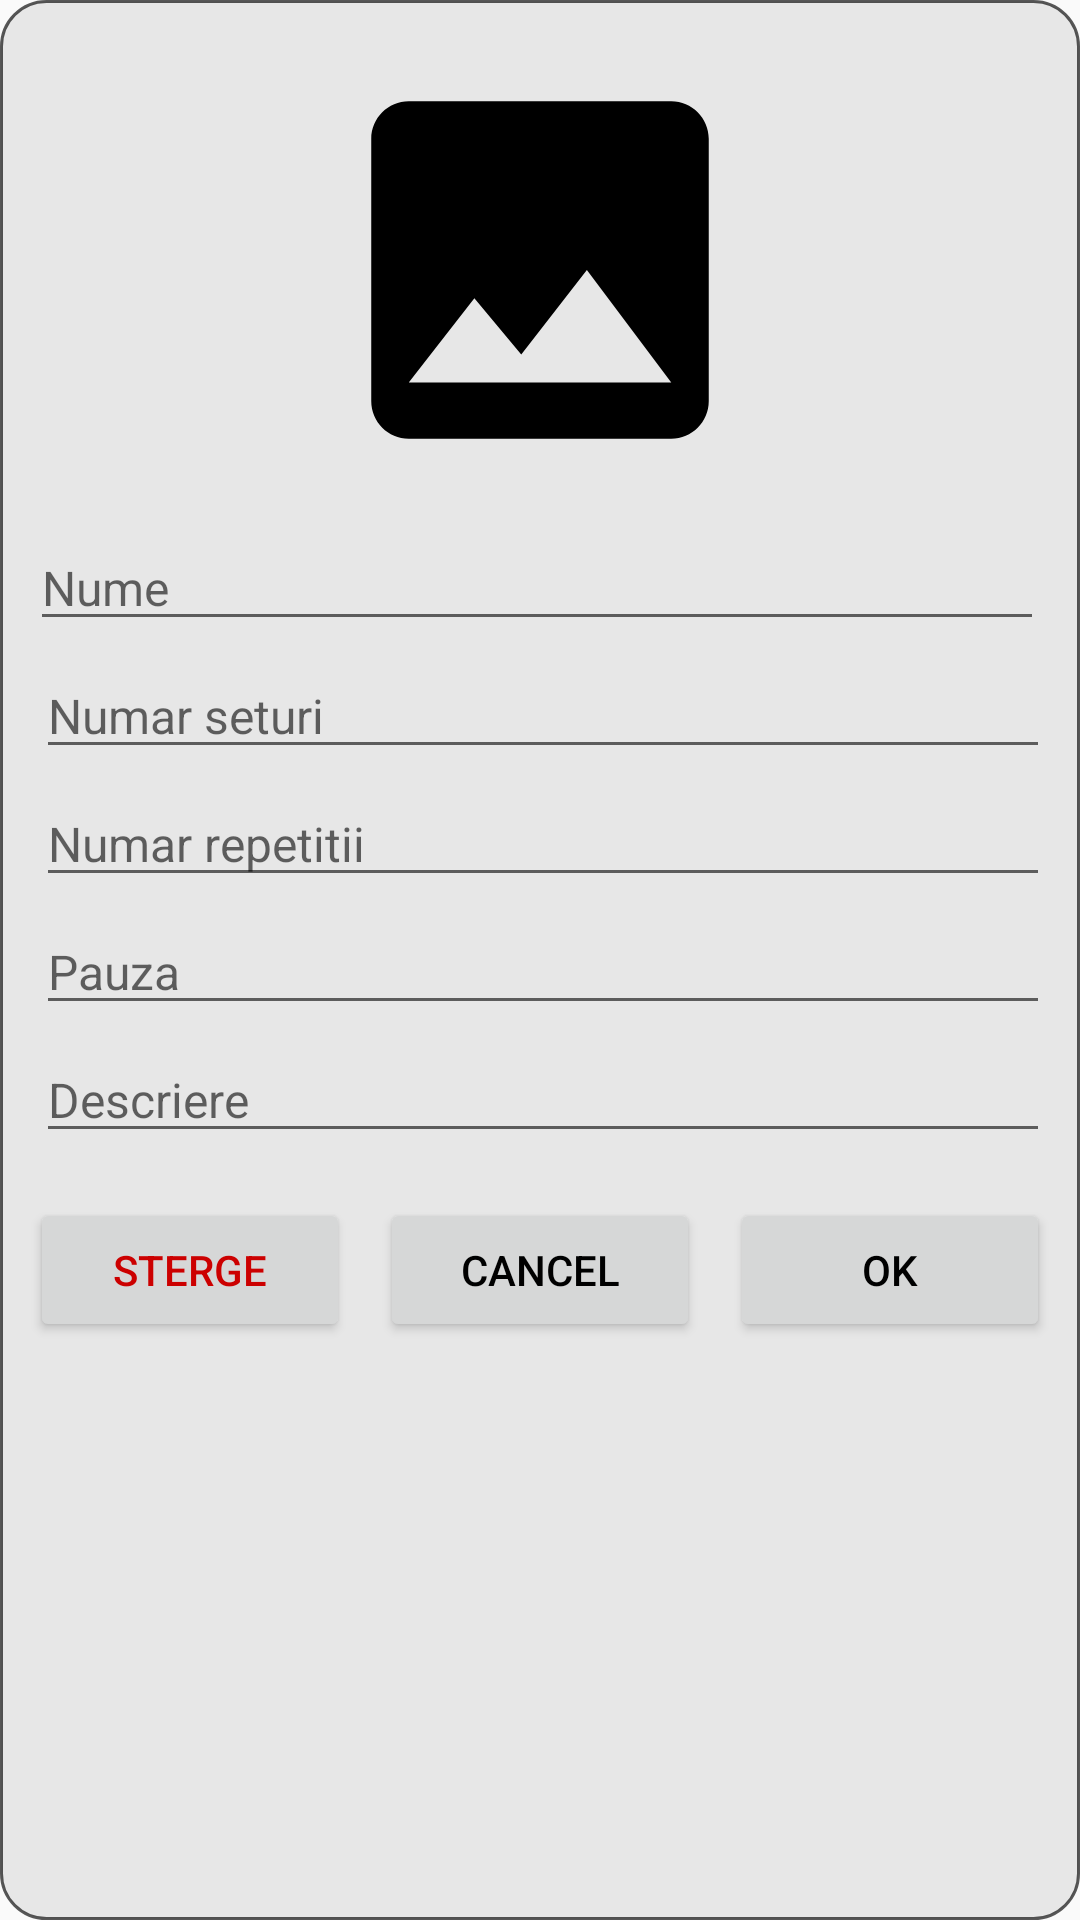

Point at icon controls on the screen. Image size 1080w x 1920h, points as point (x, y).
photo: point (540, 270)
